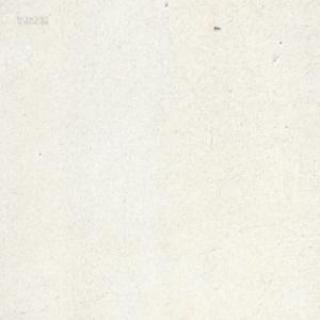Nailtrack_idkeyframe: (212, 24, 220, 30)
